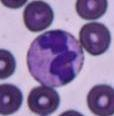N: (26, 29, 84, 88)
